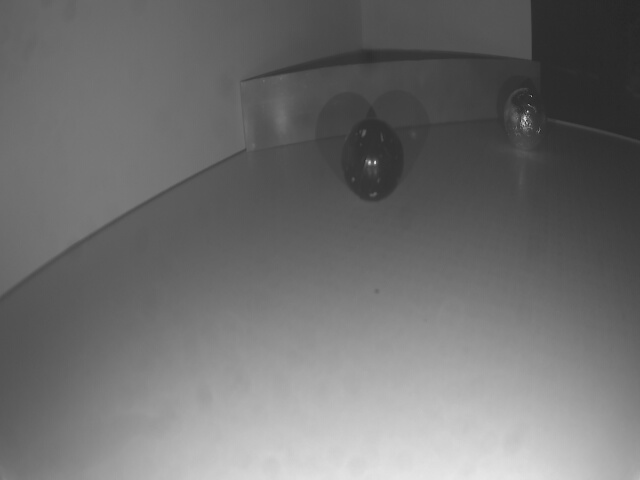Dead: (342, 120, 407, 202)
Green: (239, 59, 540, 154)
Live: (505, 87, 548, 154)
